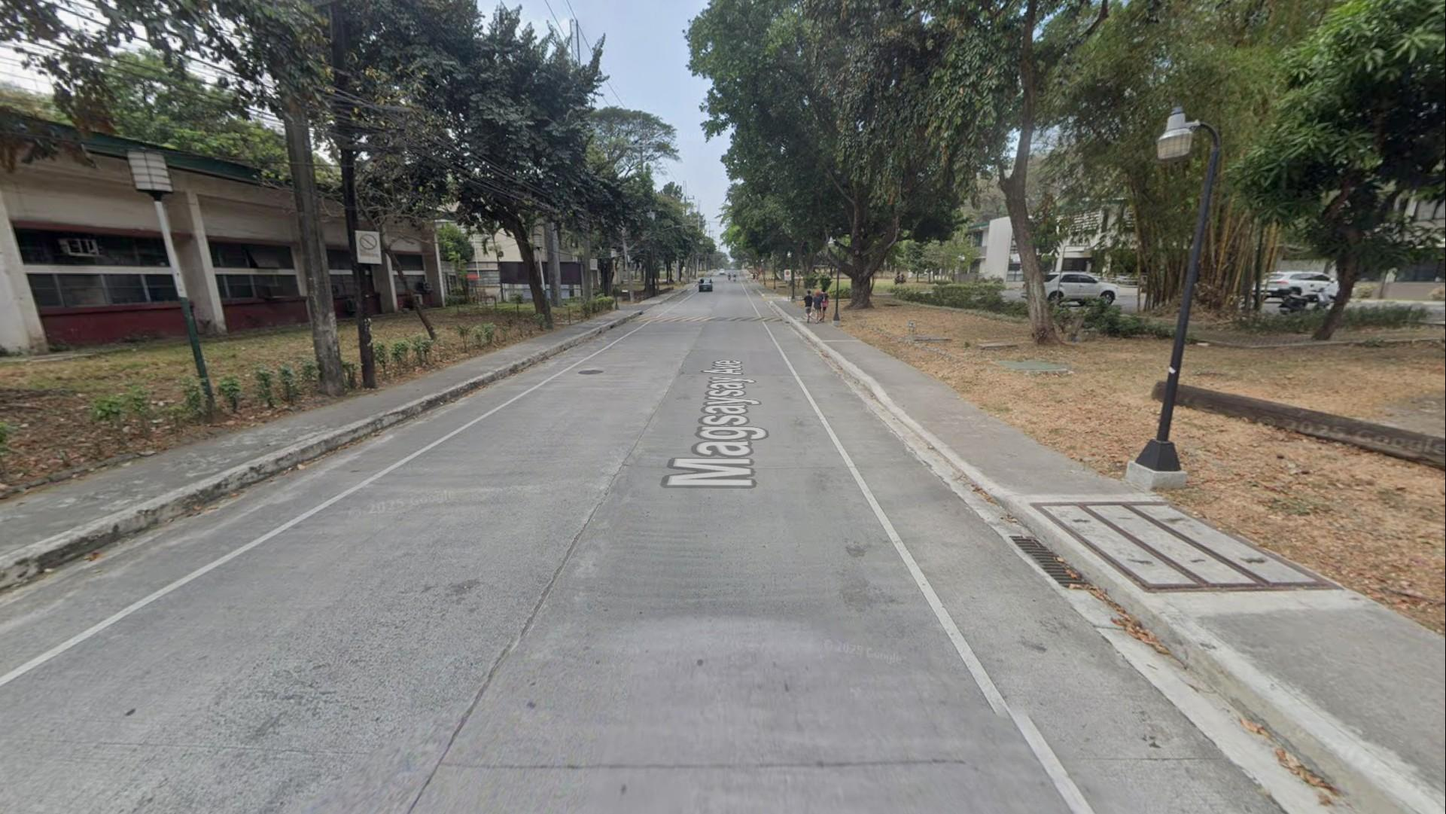pedestrian: (803, 289, 813, 324), (818, 292, 829, 323), (812, 290, 822, 324), (753, 272, 756, 282)
